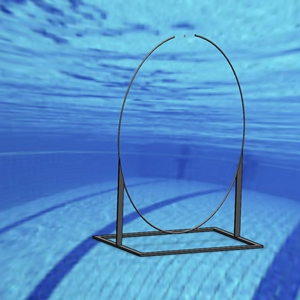circle: (94, 32, 266, 256)
